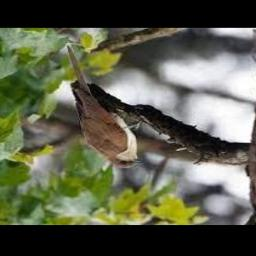Cuckoo: (67, 44, 144, 169)
